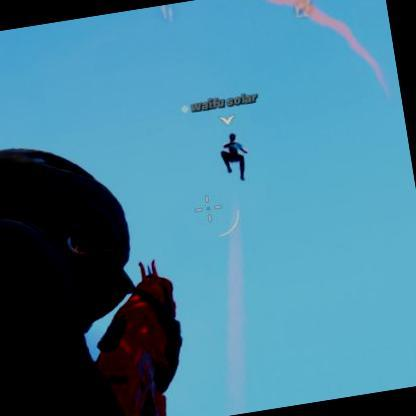person: (218, 137, 253, 183)
